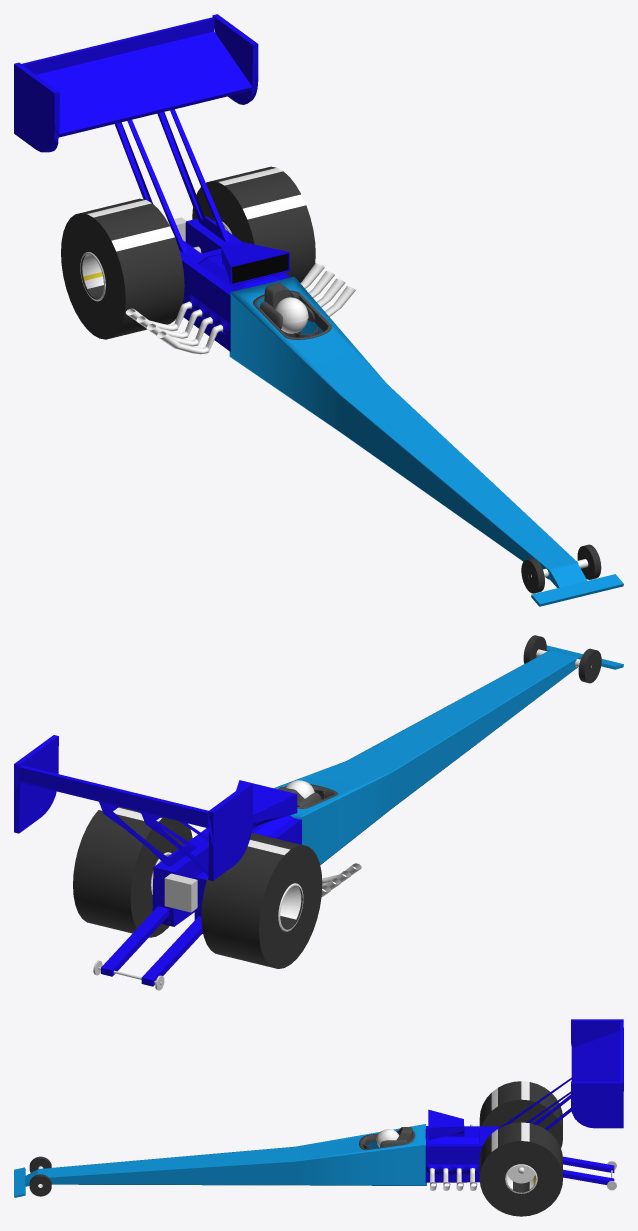
Rendered from RealDrag.glb.
3 renders of one model, top to bottom at view 1: azimuth 30°, elevation 25°; view 2: azimuth 150°, elevation 25°; view 3: azimuth 270°, elevation 25°, orthographic. The views are drawn at different scales.
Parts seen in each view (by area): view 1: body, tire-rear.right, tire-rear.left, body.001; view 2: body, tire-rear.right, tire-rear.left, Cube.001, tire-front.right; view 3: body, tire-rear.left, tire-rear.right, body.001, tire-front.left.
Boxes of the visible parts, bbox=[...] form: body: bbox=[14, 14, 623, 606]; tire-rear.right: bbox=[61, 198, 184, 339]; tire-rear.left: bbox=[192, 166, 315, 282]; body.001: bbox=[125, 263, 355, 354]; body: bbox=[14, 645, 623, 986]; tire-rear.right: bbox=[201, 833, 322, 968]; tire-rear.left: bbox=[73, 806, 192, 937]; Cube.001: bbox=[164, 873, 197, 912]; tire-front.right: bbox=[578, 648, 601, 683]; body: bbox=[14, 1019, 623, 1197]; tire-rear.left: bbox=[479, 1122, 562, 1216]; tire-rear.right: bbox=[479, 1081, 562, 1147]; body.001: bbox=[429, 1124, 477, 1190]; tire-front.left: bbox=[29, 1174, 51, 1196].
Bounding box in the file's own units: 1.82 × 1.79 × 7.19.
